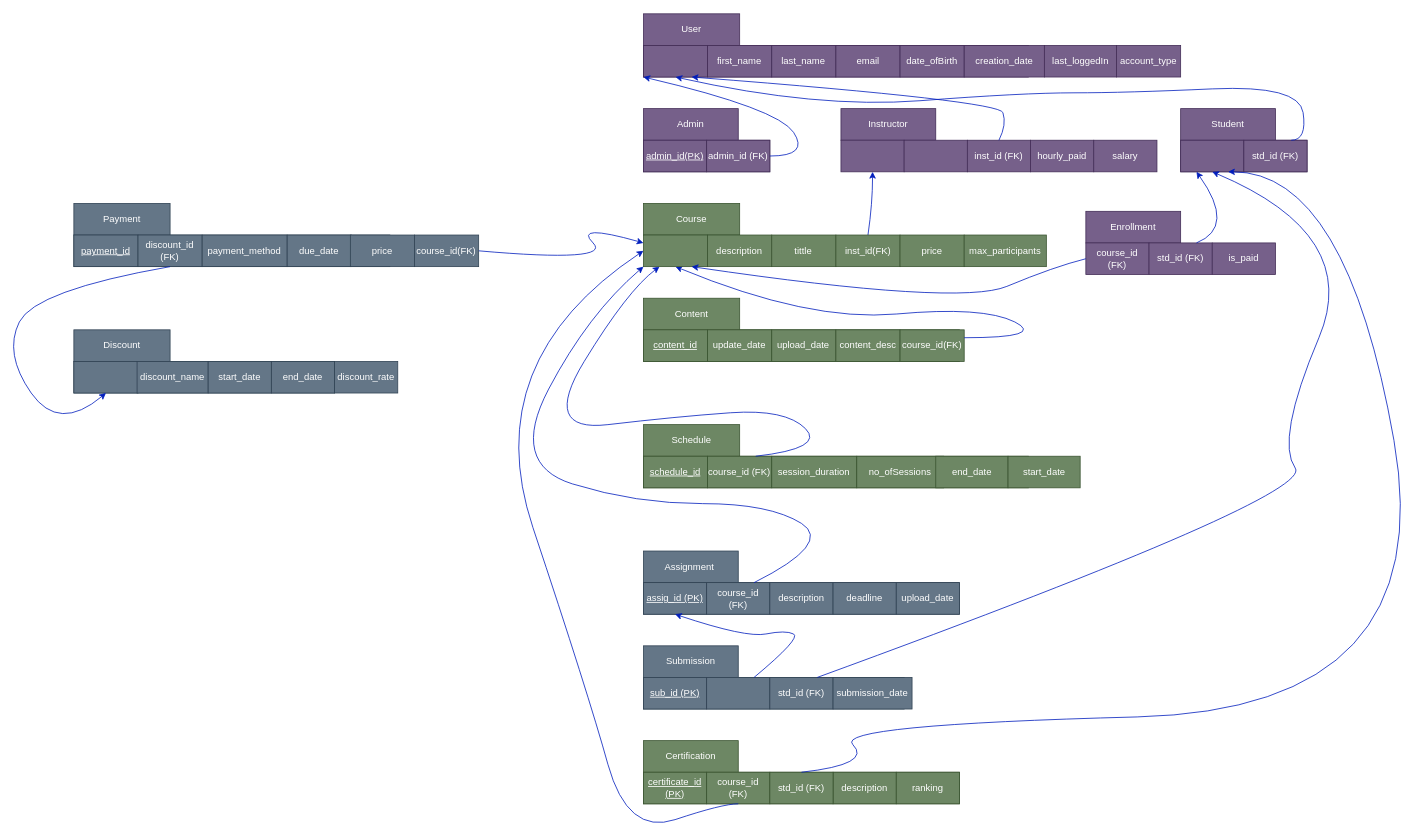
This 1415x837 diagram has some shape labels left out. Here are the shapes that lost their labels. From the top down, the centre of each, then its label:
At (675,61): "user_id (PK)".
At (872,155): "inst_id (PK)".
At (935,155): "specialization".
At (1212,155): "std_id (PK)".
At (675,250): "course_id".
At (105,377): "dicount_id".
At (738,693): "assig_id (FK)".
